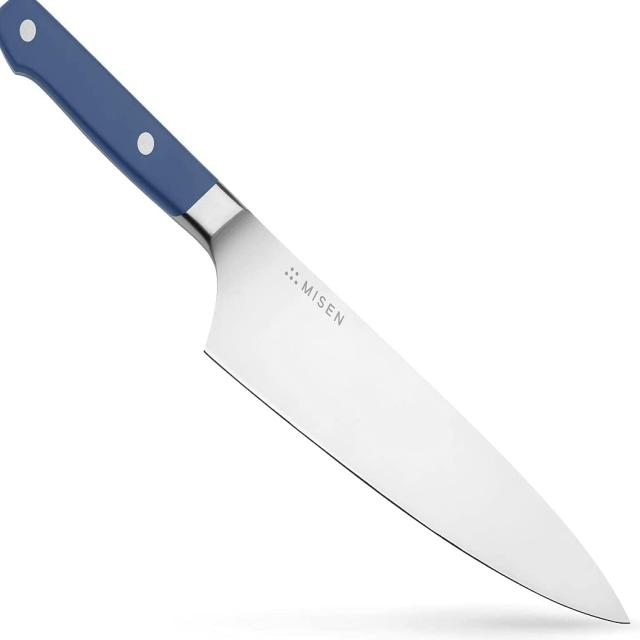Weapon: (0, 0, 628, 622)
